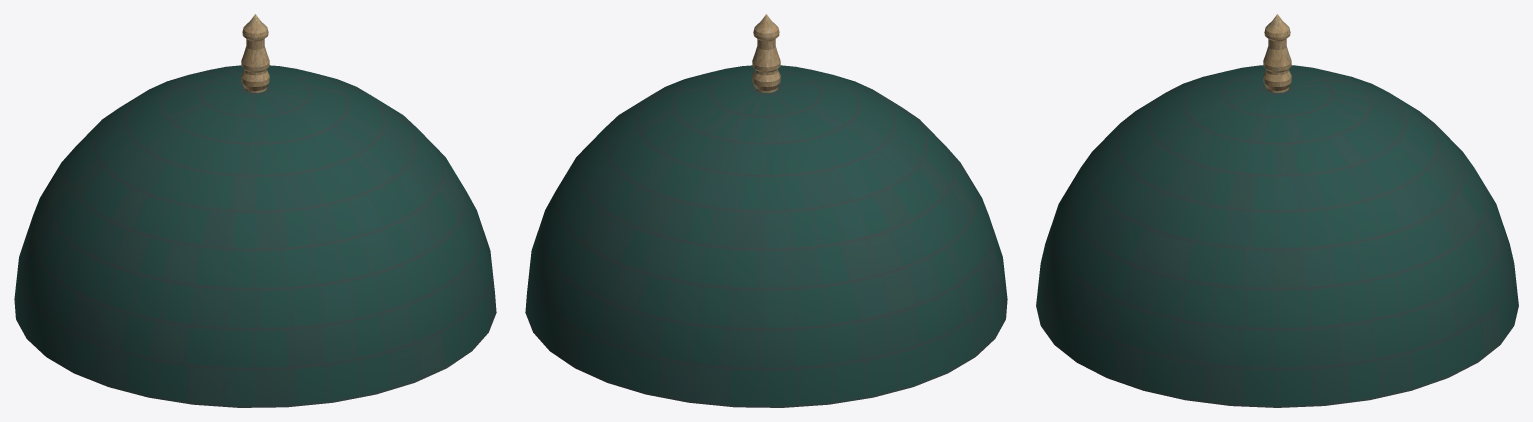
File: dome.fbx
The picture shows the model from 3 angles, left to right: view 1: azimuth 30°, elevation 25°; view 2: azimuth 150°, elevation 25°; view 3: azimuth 270°, elevation 25°; orthographic projection.
Parts seen in each view (by area): view 1: Sphere, Cylinder; view 2: Sphere, Cylinder; view 3: Sphere, Cylinder.
Boxes of the visible parts, bbox=[...] form: Sphere: bbox=[14, 65, 496, 407]; Cylinder: bbox=[241, 14, 269, 92]; Sphere: bbox=[525, 65, 1007, 407]; Cylinder: bbox=[752, 14, 780, 92]; Sphere: bbox=[1036, 65, 1518, 407]; Cylinder: bbox=[1263, 14, 1291, 92].
Bounding box in the file's own units: 200 × 133 × 200.
